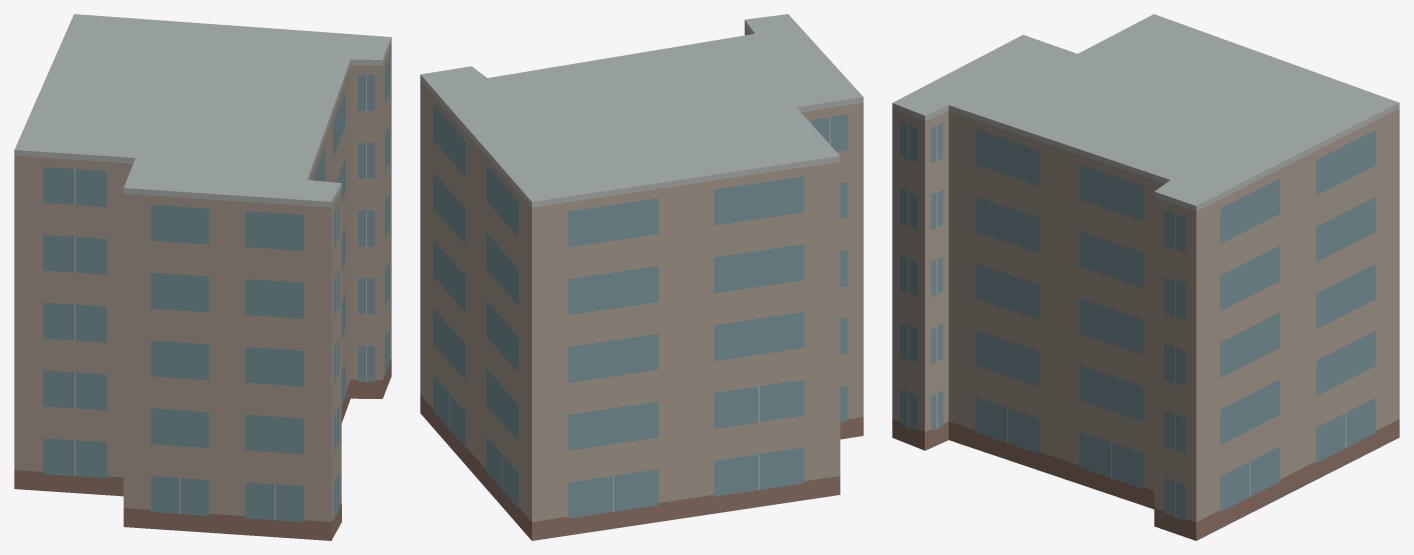
The model's file is survey-upis-32760262.glb.
3 views of the same model, side by side, from view 1: azimuth 30°, elevation 25°; view 2: azimuth 150°, elevation 25°; view 3: azimuth 270°, elevation 25° (orthographic).
Parts seen in each view (by area): view 1: survey-upis-32760262.tmp; view 2: survey-upis-32760262.tmp; view 3: survey-upis-32760262.tmp.
Boxes of the visible parts, bbox=[...] form: survey-upis-32760262.tmp: bbox=[14, 14, 391, 540]; survey-upis-32760262.tmp: bbox=[420, 14, 863, 540]; survey-upis-32760262.tmp: bbox=[892, 14, 1399, 540].
Bounding box in the file's own units: 17.85 × 14.5 × 19.92.
